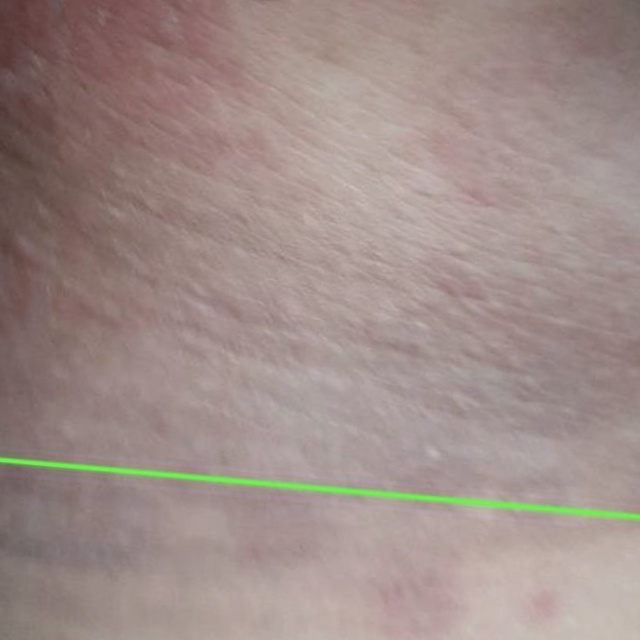Tinea Corporis: (0, 459, 639, 639)
